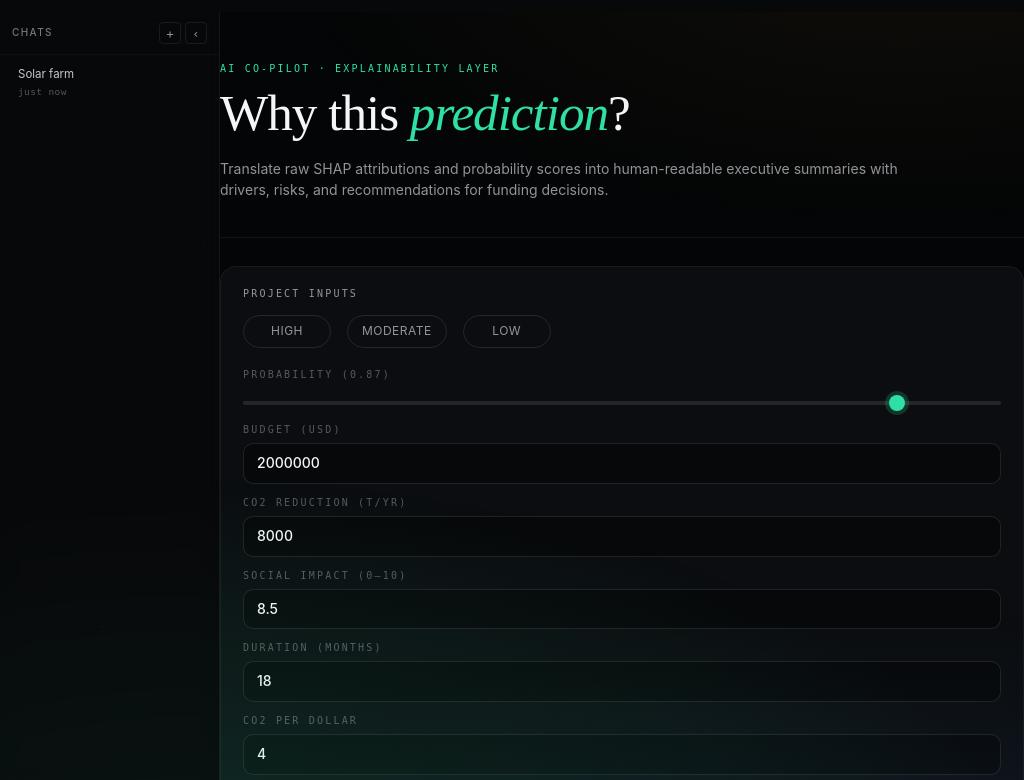
Scenario: CopilotPage (production path) › shows a restored chat's probability and model as unknown, not 0 or v5 (F018, F019)
The image size is (1024, 780).
Click the element with class "sessions-row": click(46, 82) [18, 67, 74, 96]
(page scrolled)
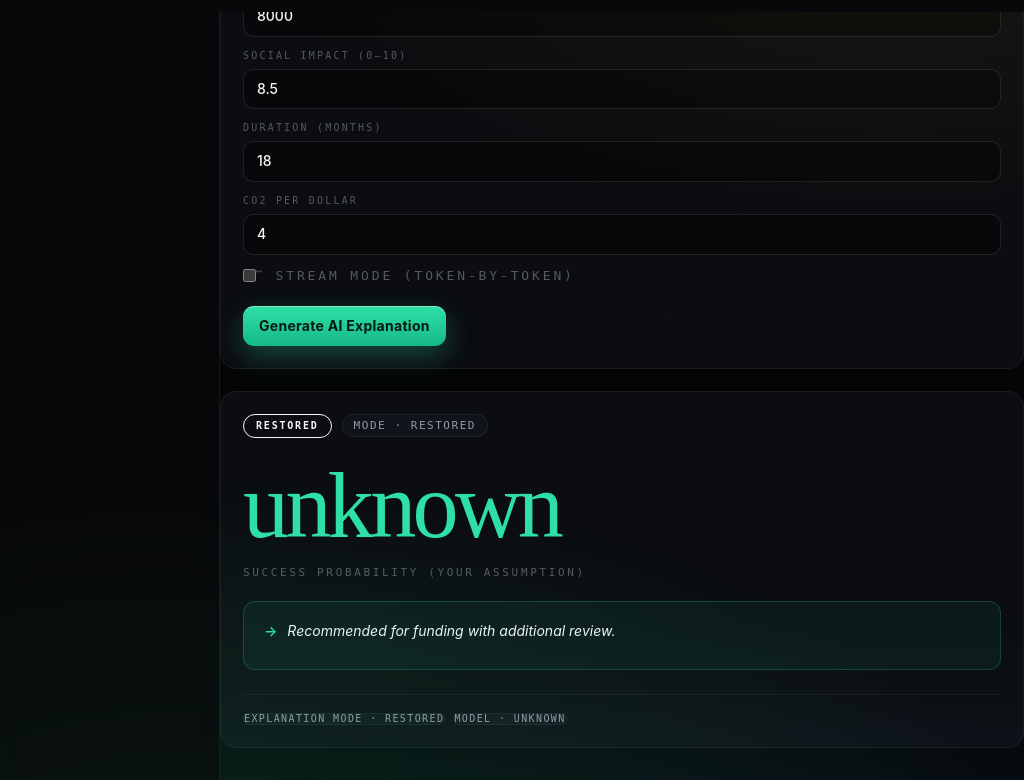
Now the text "Recommended for funding with additional review." is shown, box [287, 620, 615, 643]
Now the text "unknown" is shown, box [243, 455, 560, 557]
Now the text "Model · unknown" is shown, box [453, 713, 567, 725]
